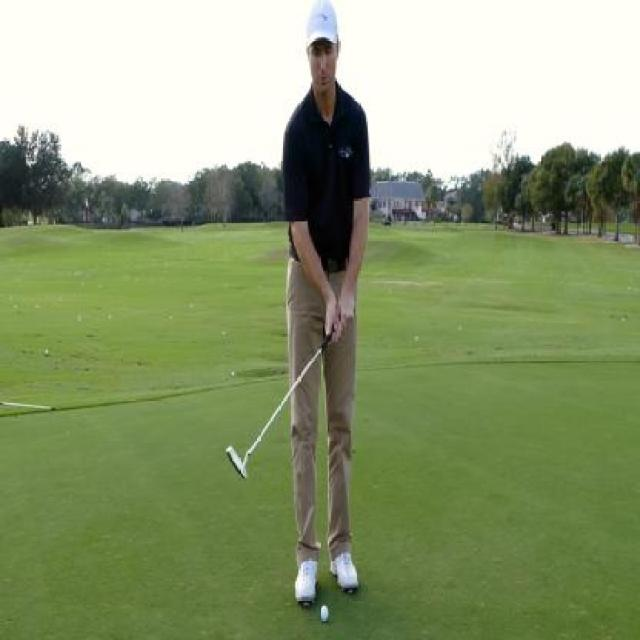club head: (224, 443, 250, 480)
